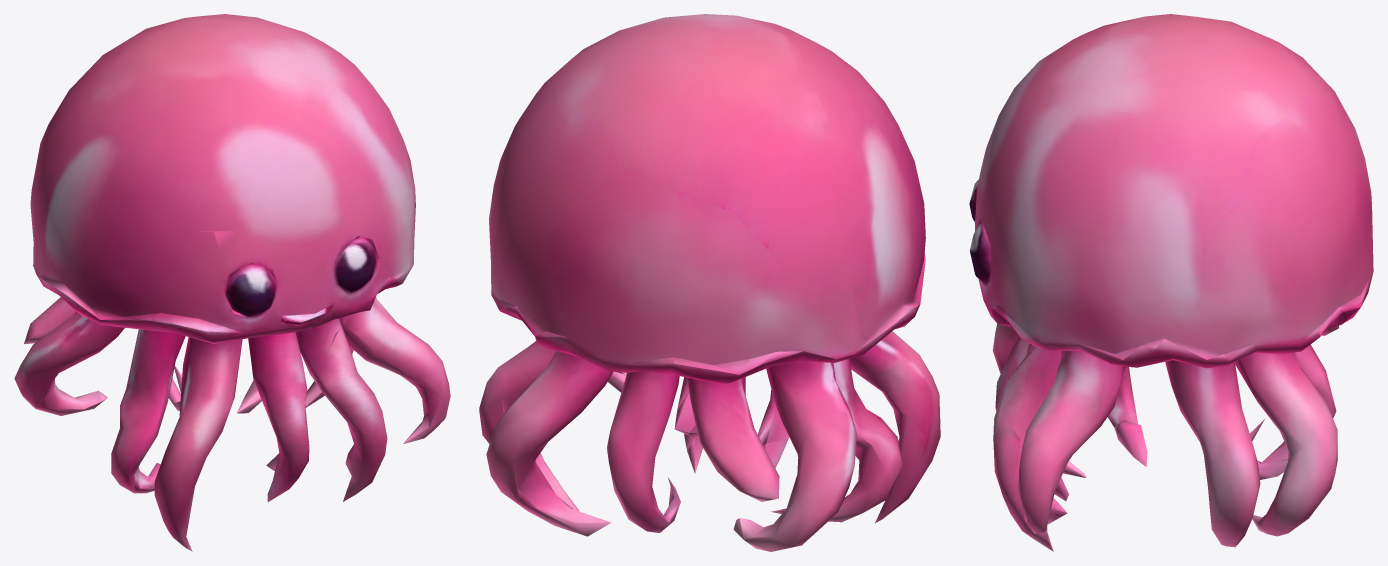
File: jellyfish.glb
3 renders of one model, left to right at view 1: azimuth 30°, elevation 25°; view 2: azimuth 150°, elevation 25°; view 3: azimuth 270°, elevation 25°, orthographic. The views are drawn at different scales.
Visible parts, largest first — view 1: model; view 2: model; view 3: model.
Part boxes in pixels (left/top/right/bottom): model: left=14, top=14, right=450, bottom=551; model: left=479, top=14, right=940, bottom=551; model: left=969, top=14, right=1373, bottom=551.
Size of the model in its own units: 1.5 by 1.9 by 1.41.
1 material, 1 textured.
